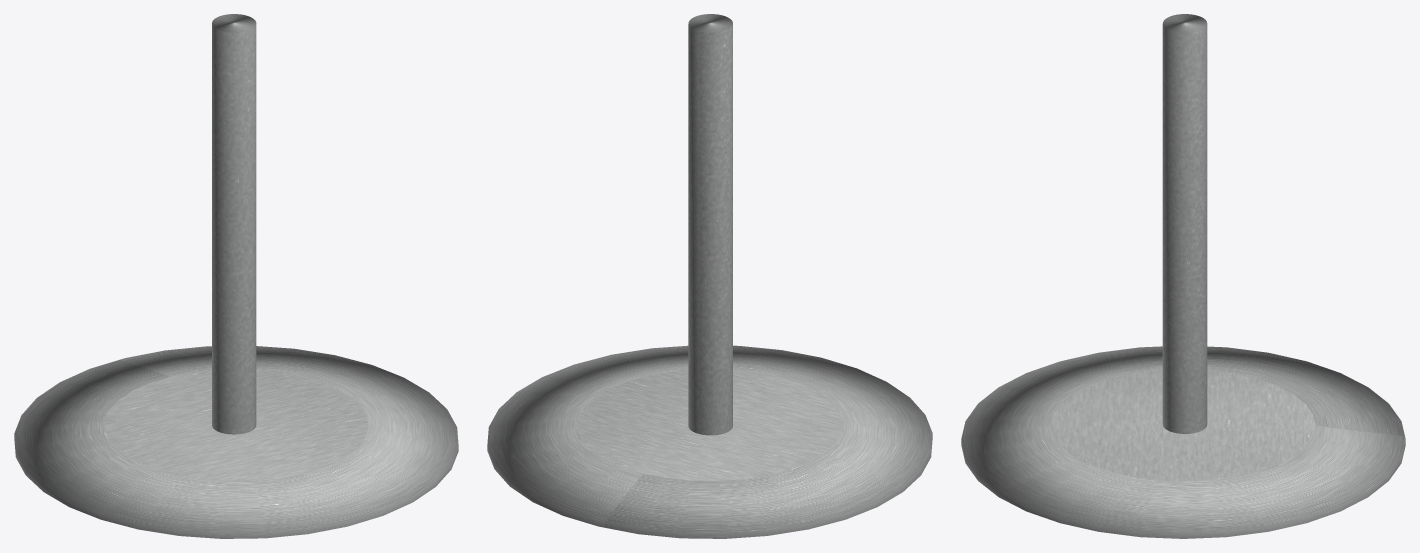
File: tafel_bottom.fbx
3 views of the same model, side by side, from view 1: azimuth 30°, elevation 25°; view 2: azimuth 150°, elevation 25°; view 3: azimuth 270°, elevation 25° (orthographic).
Parts seen in each view (by area): view 1: Cylinder.001; view 2: Cylinder.001; view 3: Cylinder.001.
Boxes of the visible parts, <box> form: Cylinder.001: <box>14,14,458,538</box>; Cylinder.001: <box>487,14,932,538</box>; Cylinder.001: <box>961,14,1405,538</box>.
Bounding box in the file's own units: 100 × 104 × 100.
